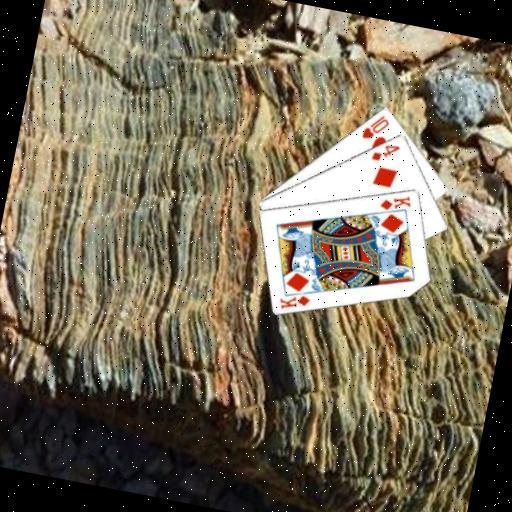10H: (359, 109, 393, 144)
4D: (369, 137, 403, 166)
KD: (376, 188, 415, 216), (276, 288, 313, 316)
